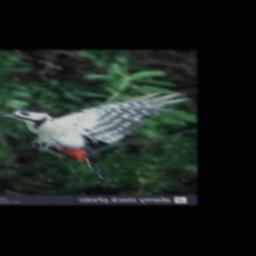Woodpecker: (0, 91, 187, 179)
